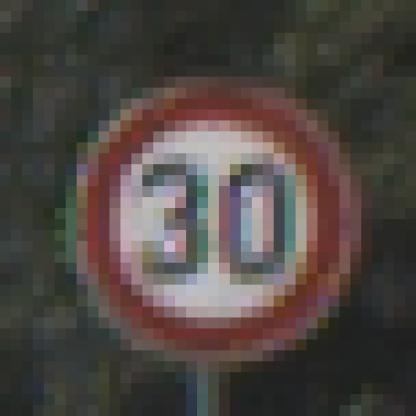Speed Limit 30: (83, 86, 341, 352)
